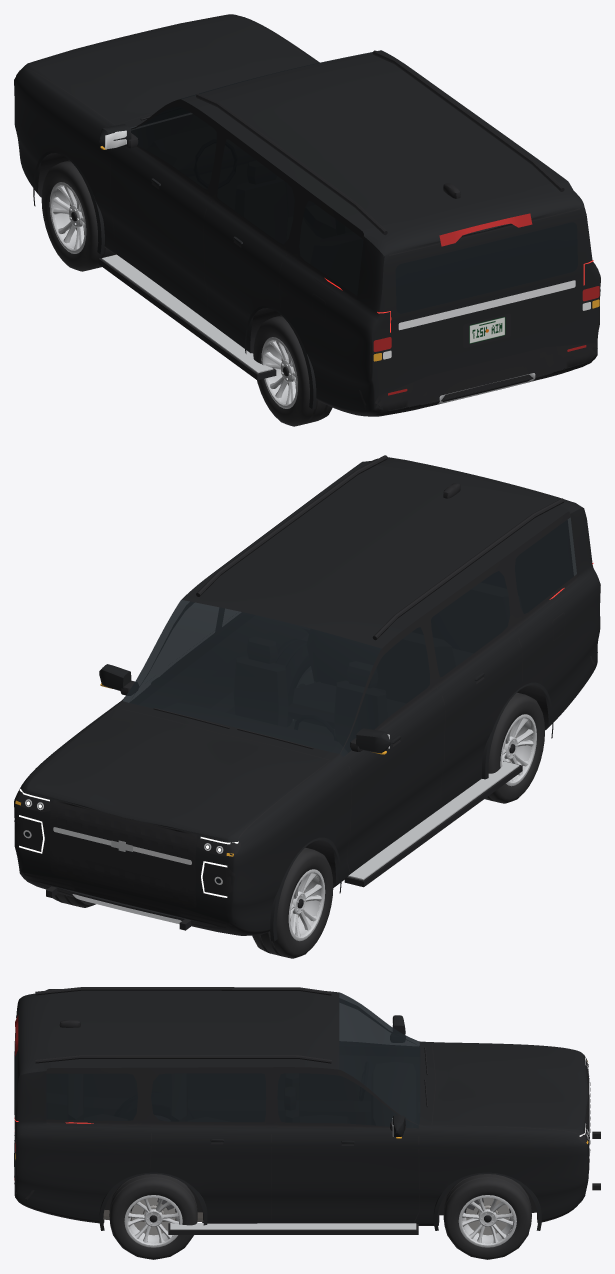
Rendered from suv.glb.
3 views of the same model, one above another, from view 1: azimuth 30°, elevation 25°; view 2: azimuth 150°, elevation 25°; view 3: azimuth 270°, elevation 25° (orthographic). The views are drawn at different scales.
Visible parts, largest first — view 1: body, wheel_FL, wheel_RL; view 2: body, wheel_FL, wheel_RL; view 3: body, wheel_FR, wheel_RR.
Part boxes in pixels (box(x1,y1,x2,y2)): body: box(14, 14, 600, 416); wheel_FL: box(41, 160, 114, 271); wheel_RL: box(253, 315, 332, 426); body: box(14, 455, 600, 941); wheel_FL: box(252, 847, 333, 958); wheel_RL: box(485, 692, 544, 803); body: box(14, 987, 600, 1234); wheel_FR: box(443, 1174, 531, 1259); wheel_RR: box(109, 1174, 197, 1259).
Bounding box in the file's own units: 2.43 × 1.97 × 5.39.
15 materials, 1 textured.
